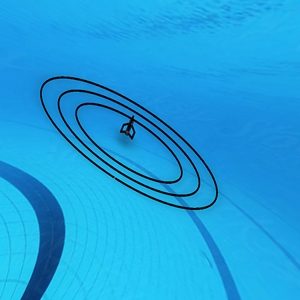circle: (34, 62, 227, 219)
submarine: (120, 116, 139, 140)
